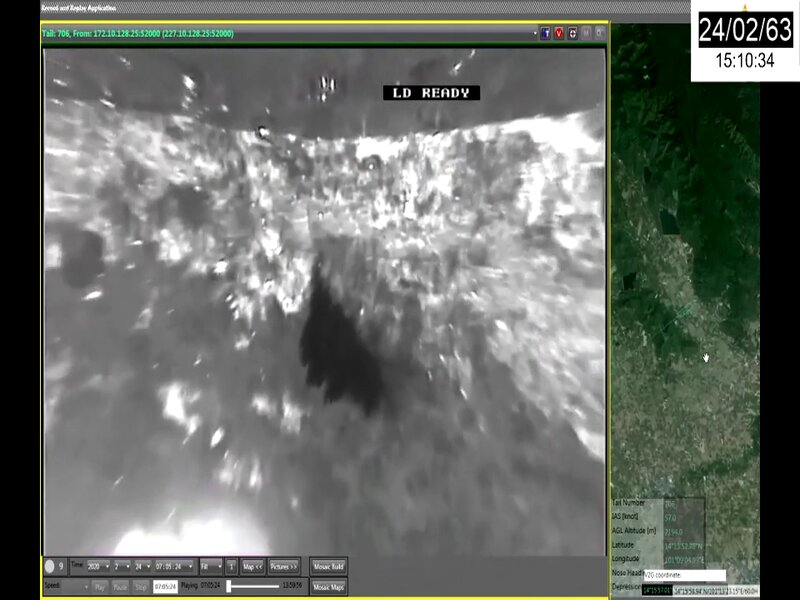Fire: (344, 120, 594, 222)
